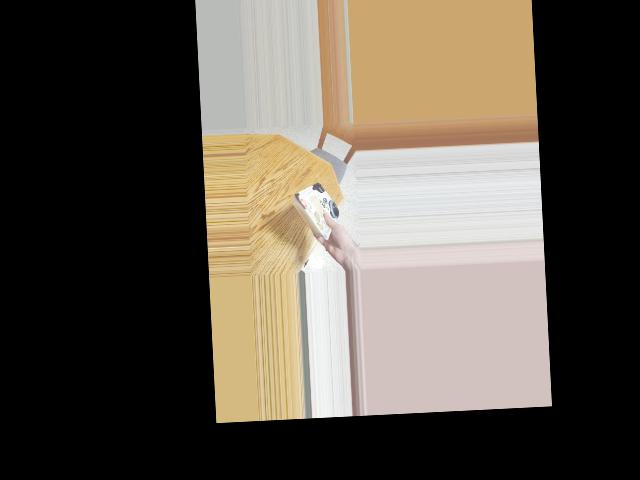cheese: (282, 178, 341, 237)
